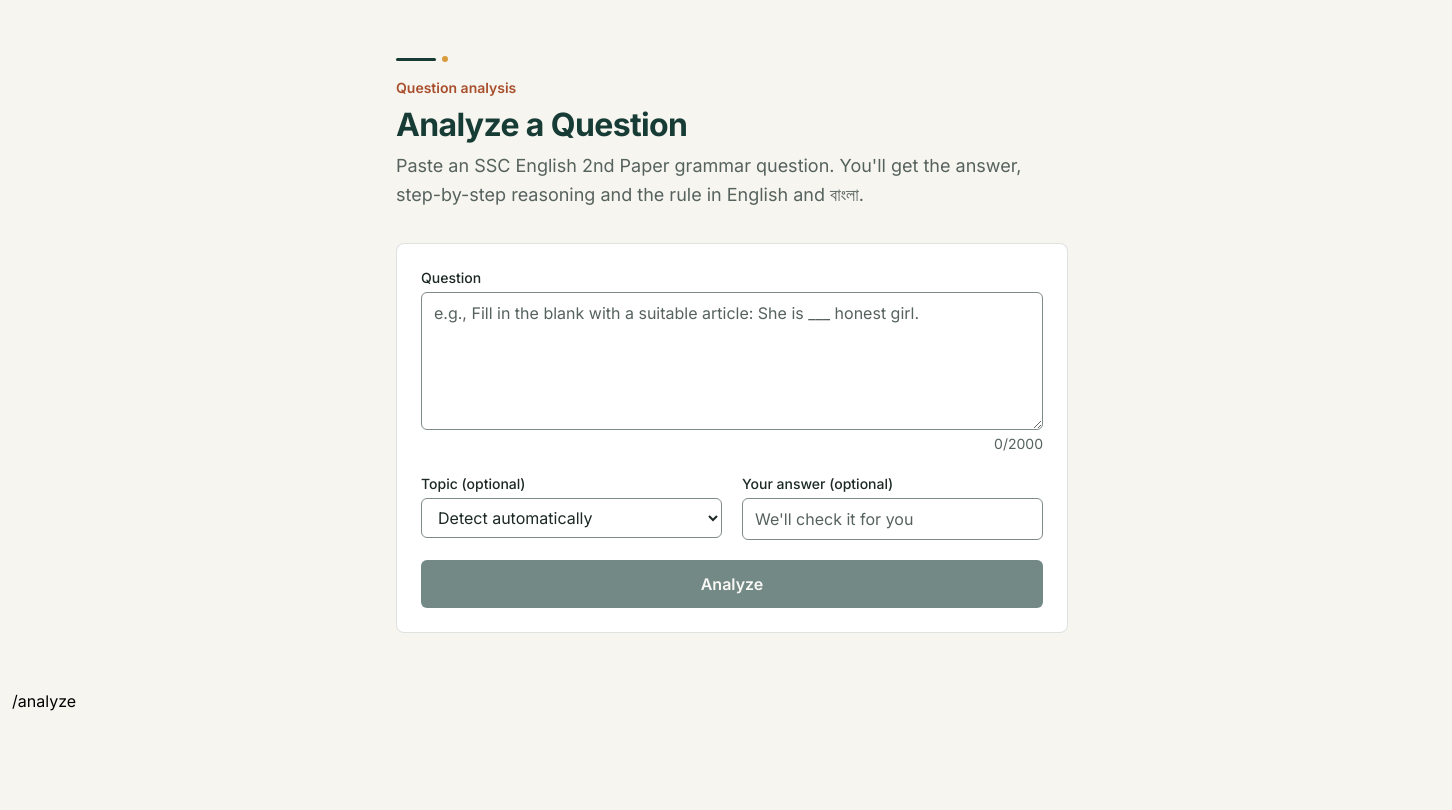
AnalyzePage › sends the question and shows the answer, steps and rule in English by default
The width and height of the screenshot is (1452, 810).
Type "She is ___ honest girl." into the text box labelled "Question". click: (732, 361)
box: [421,292,1043,430]
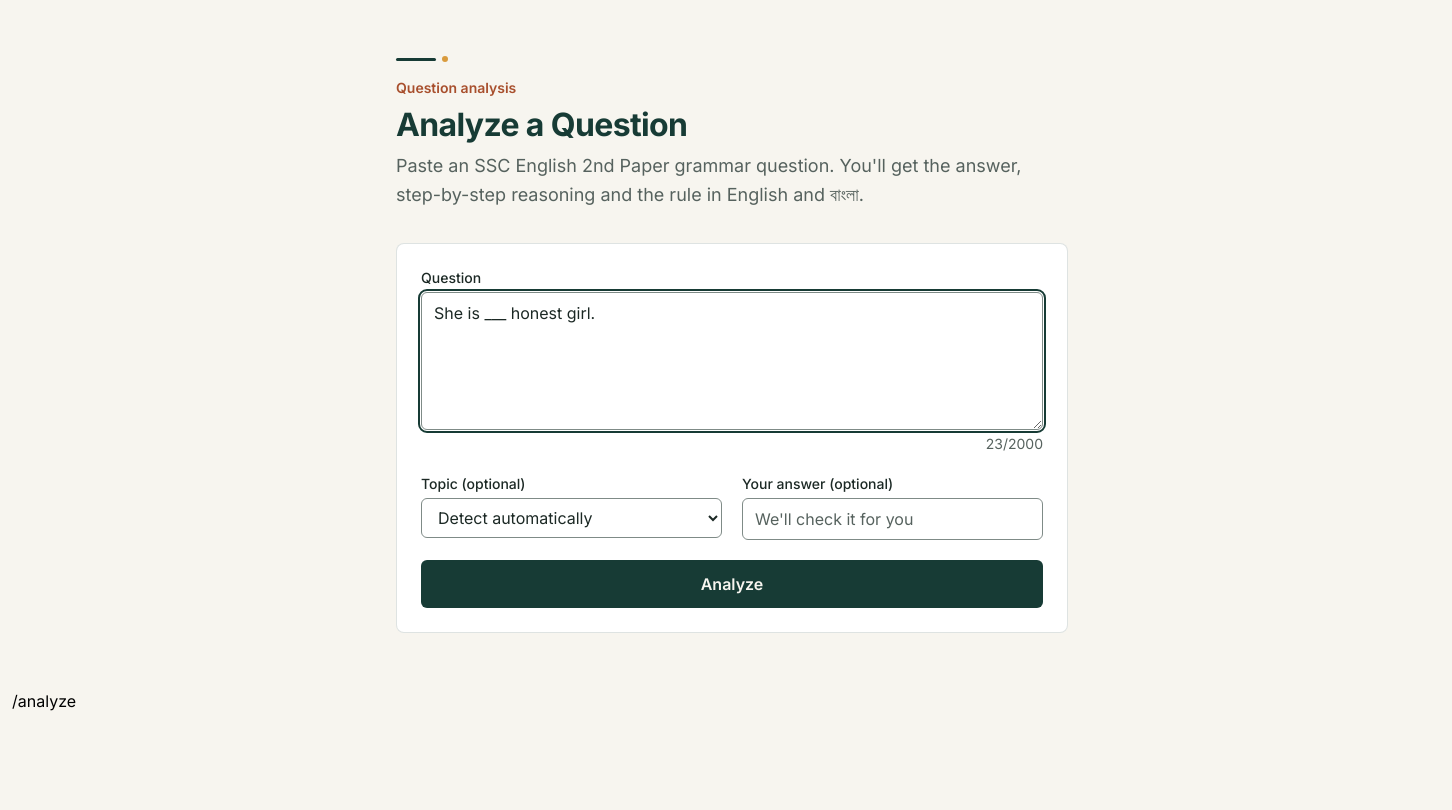
Click the button "Analyze". click: (732, 584)
box: [421,560,1043,608]
(page scrolled)
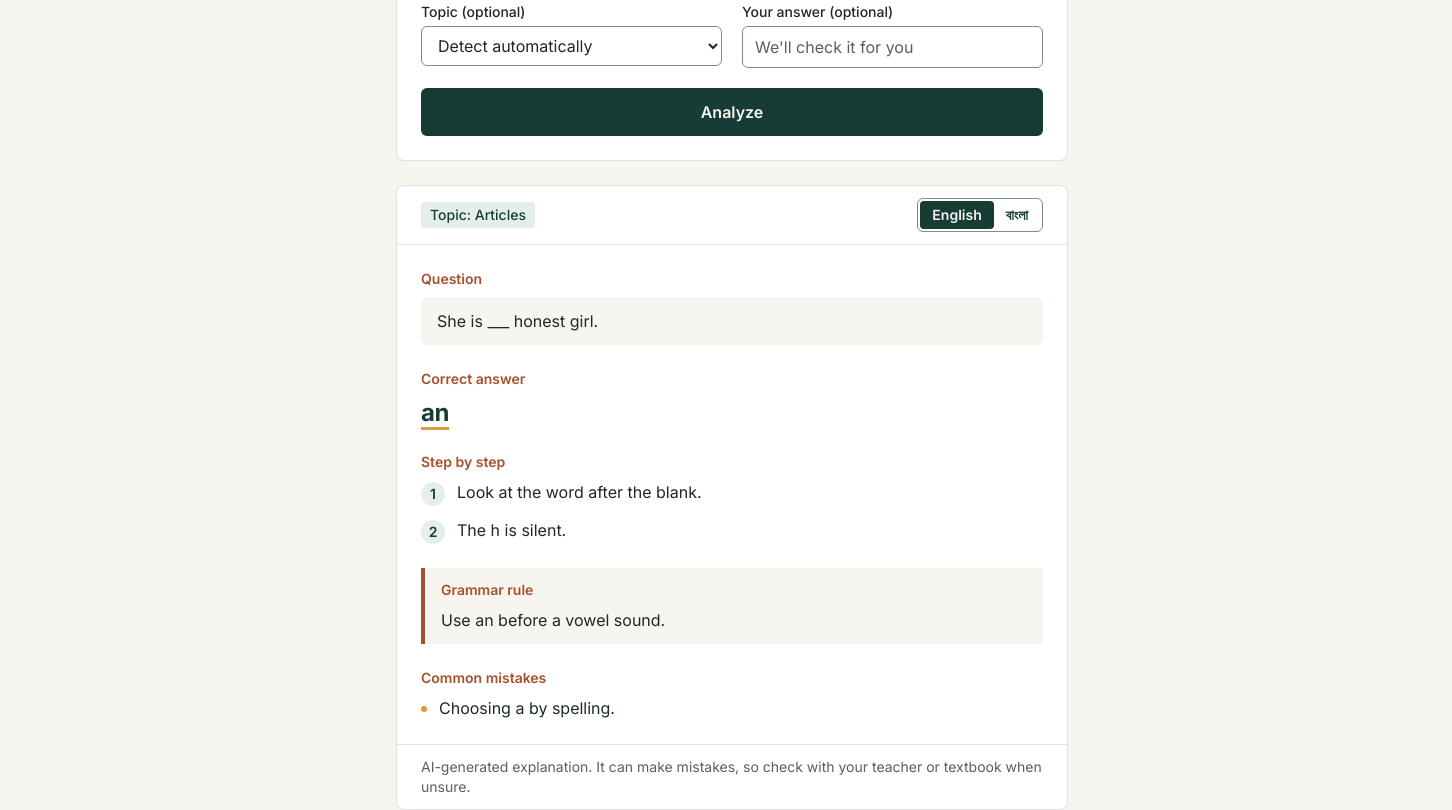
Result: the text "Use an before a vowel sound." is shown at [441,610,665,630]
Result: the text "Look at the word after the blank." is shown at [457,480,702,506]
Result: the text "Choosing a by spelling." is shown at [439,696,615,720]
